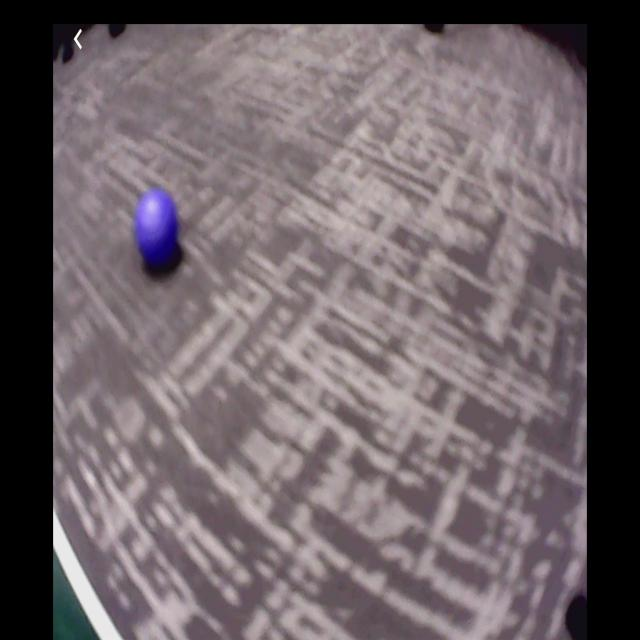ball: (135, 192, 180, 268)
